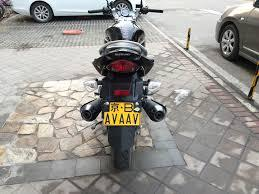motorcycle: (76, 0, 168, 170)
